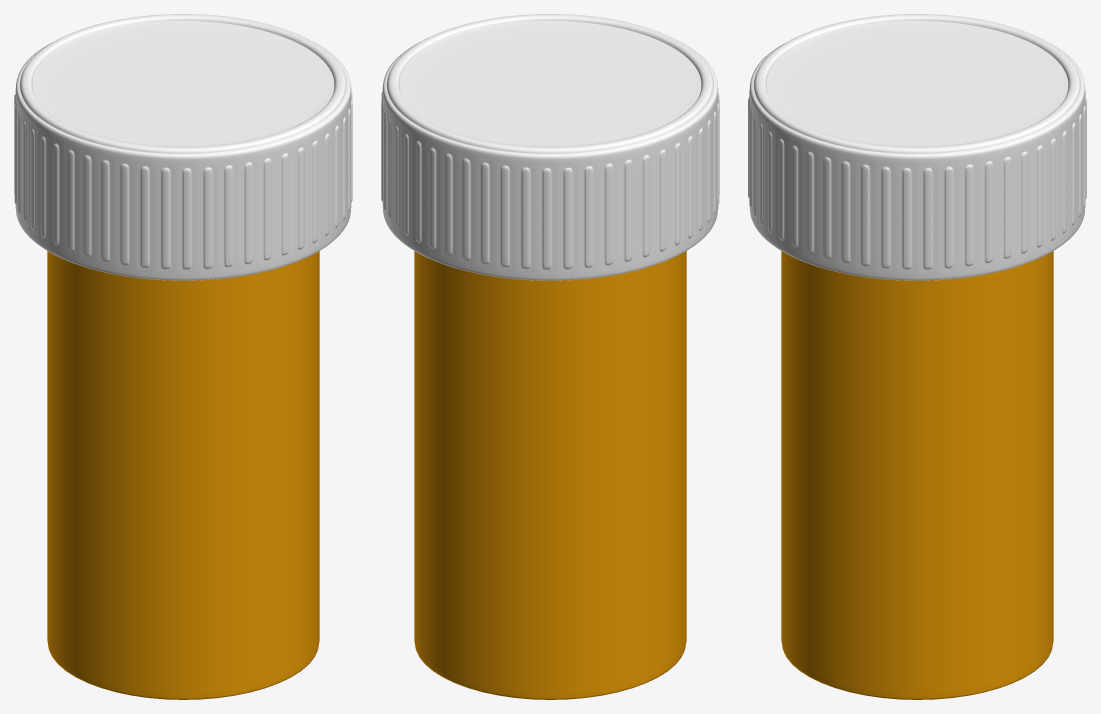
The model's file is plastic pill bottle.fbx.
The picture shows the model from 3 angles, left to right: view 1: azimuth 30°, elevation 25°; view 2: azimuth 150°, elevation 25°; view 3: azimuth 270°, elevation 25°; orthographic projection.
Parts seen in each view (by area): view 1: pCylinder4; view 2: pCylinder4; view 3: pCylinder4.
Boxes of the visible parts, x1,y1,x2,y2 form: pCylinder4: (14, 14, 352, 699); pCylinder4: (381, 14, 719, 699); pCylinder4: (748, 14, 1086, 699).
Size of the model in its own units: 4.02 by 7.37 by 4.03.
